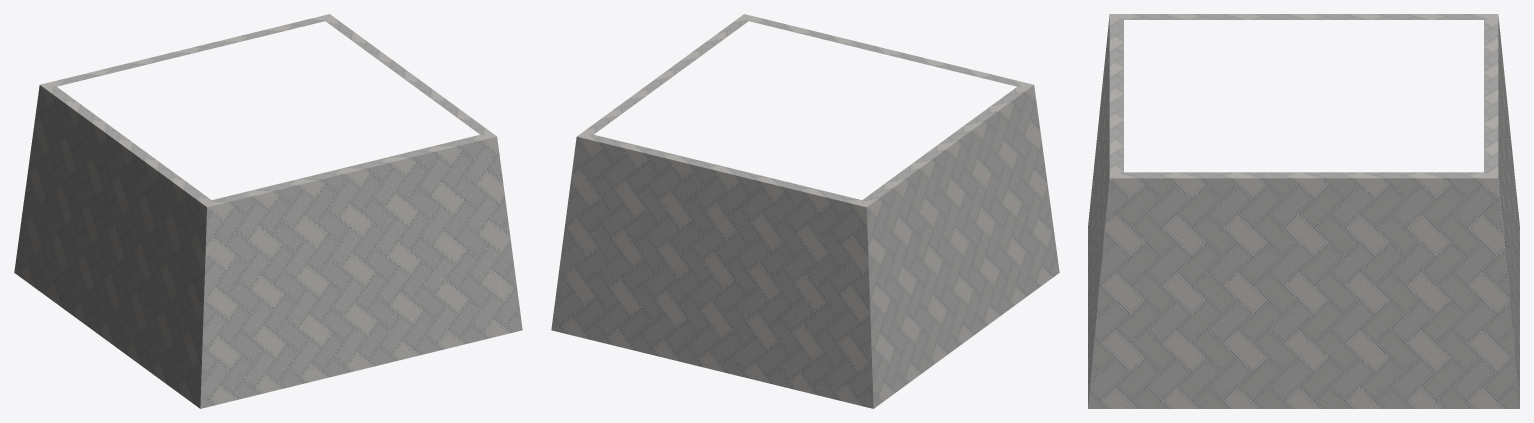
File: kd_stage_135fe0_0_1_bounded.glb
3 renders of one model, left to right at view 1: azimuth 30°, elevation 25°; view 2: azimuth 150°, elevation 25°; view 3: azimuth 270°, elevation 25°, orthographic. The views are drawn at different scales.
Parts seen in each view (by area): view 1: kd_stage_135fe0_0_1_bounded; view 2: kd_stage_135fe0_0_1_bounded; view 3: kd_stage_135fe0_0_1_bounded.
Part boxes in pixels (<box>): kd_stage_135fe0_0_1_bounded: <box>14,14,522,408</box>; kd_stage_135fe0_0_1_bounded: <box>551,14,1059,408</box>; kd_stage_135fe0_0_1_bounded: <box>1088,14,1519,408</box>.
Size of the model in its own units: 6 by 3.4 by 6.
1 material, 1 textured.
